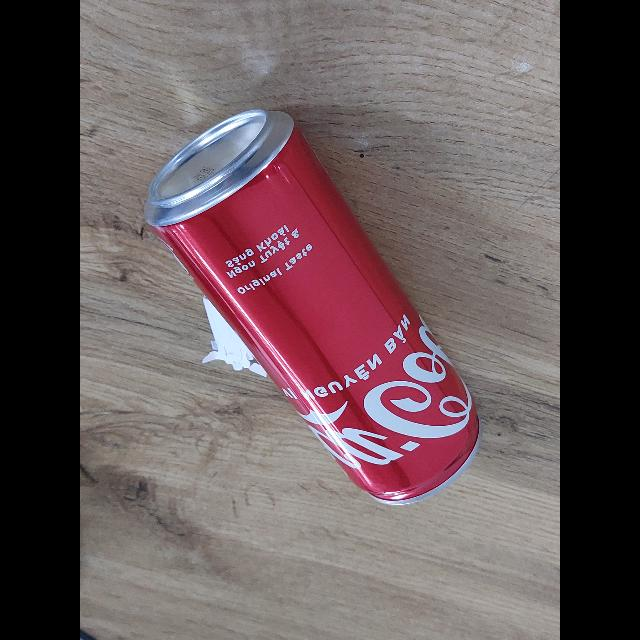coca_cola: (144, 105, 481, 503)
